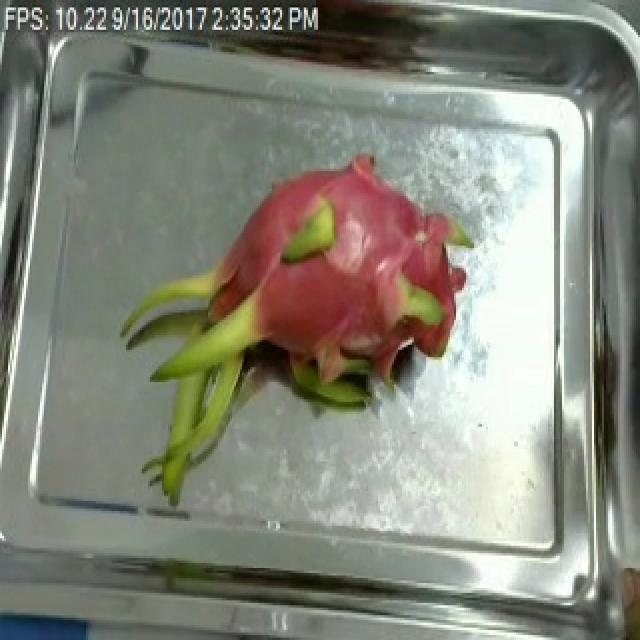fruit: (106, 122, 472, 516)
